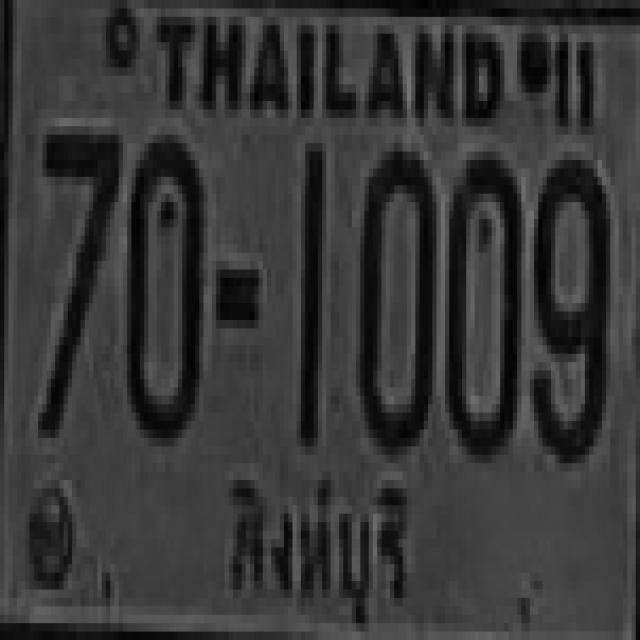0: (126, 132, 203, 443), (360, 147, 436, 450), (448, 152, 520, 454)
1: (297, 139, 322, 442)
7: (38, 126, 119, 430)
9: (531, 152, 608, 456)
SingBuri: (218, 457, 406, 600)
